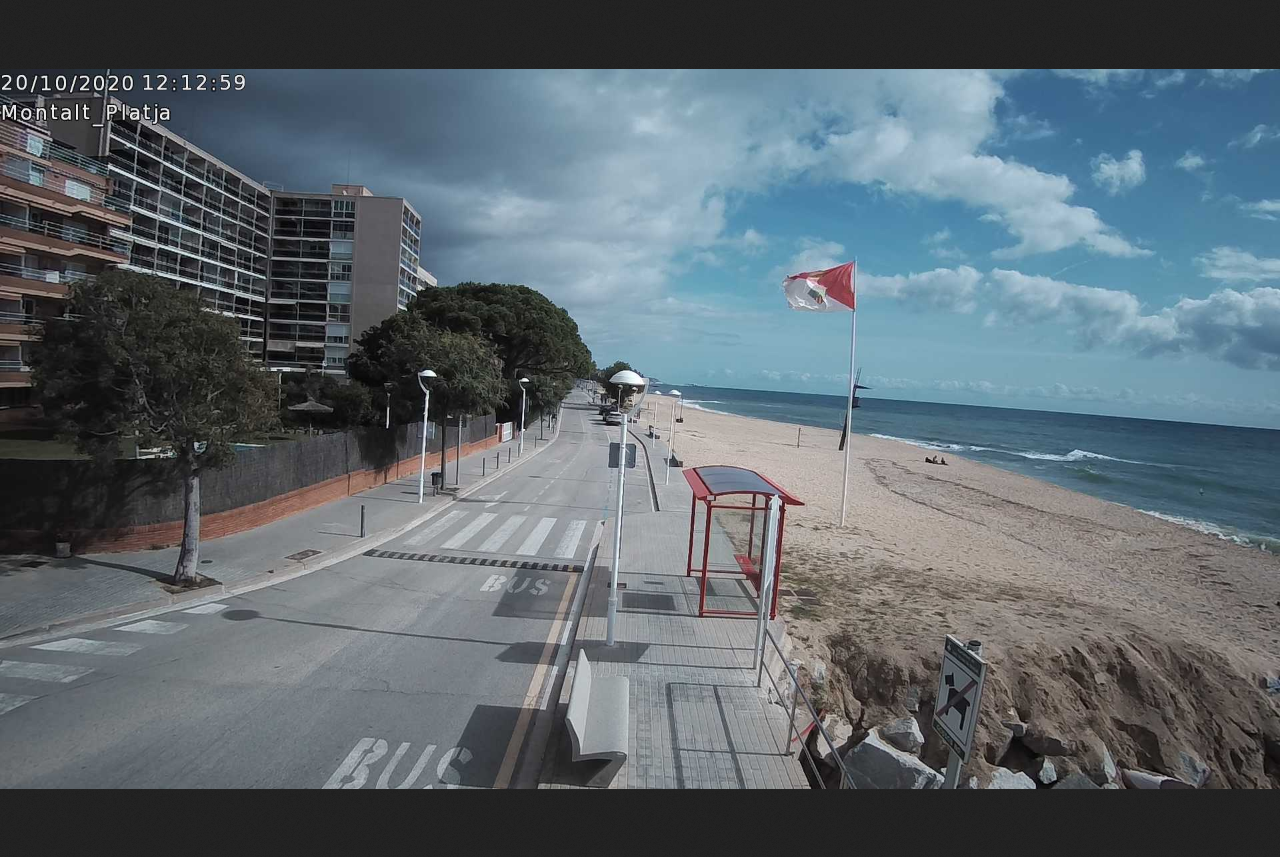yes: (779, 260, 861, 314)
